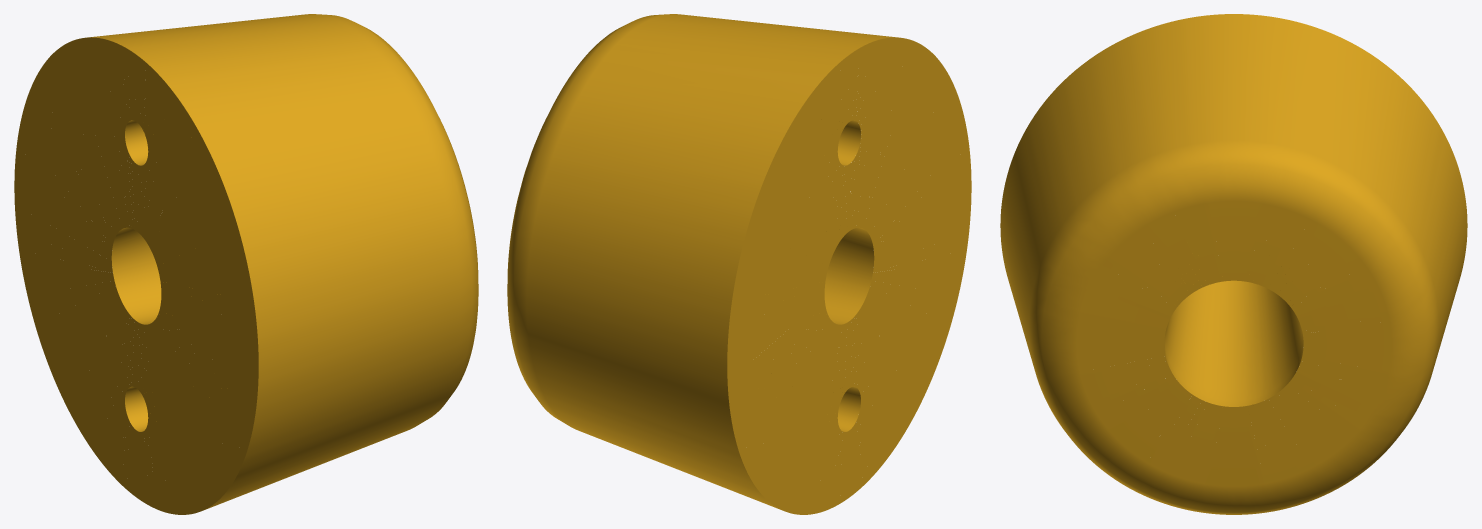
Rendered from takoz-rammer-s84-top-buffer-pu-02.glb.
3 views of the same model, side by side, from view 1: azimuth 30°, elevation 25°; view 2: azimuth 150°, elevation 25°; view 3: azimuth 270°, elevation 25° (orthographic). The views are drawn at different scales.
Parts seen in each view (by area): view 1: body; view 2: body; view 3: body.
Boxes of the visible parts, x1,y1,x2,y2 form: body: (14,14,478,514); body: (507,14,971,514); body: (1000,14,1467,514).
Size of the model in its own units: 0.1165 by 0.1945 by 0.1945.
